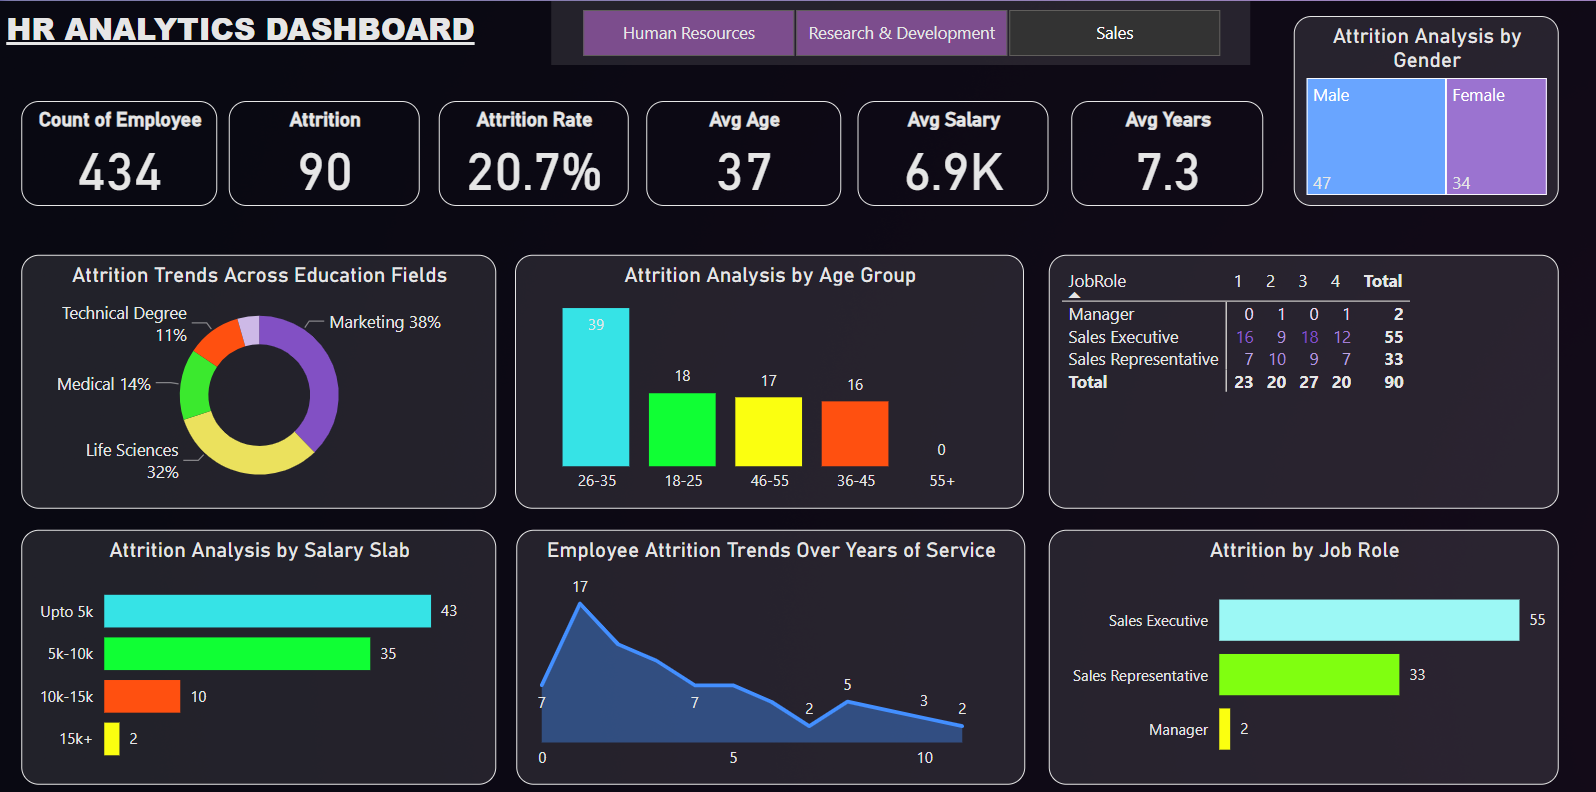

This screenshot's page, from the dashboard's own definition file:
{"tool":"powerbi","page":{"name":"Page 1","canvas":[1280,720],"ordinal":0},"visuals":[{"type":"card","title":"Count of Employee","fields":{"Values":["CountNonNull(HR_Analytics.EmpID)"]},"box":[16.9,79.6,156.8,84.4],"z":0},{"type":"card","title":"Attrition","fields":{"Values":["Sum(HR_Analytics.AttritionCount)"]},"box":[183.3,79.6,153.2,84.4],"z":1000},{"type":"card","title":"Attrition Rate","fields":{"Values":["HR_Analytics.AttritionRate"]},"box":[351,79.6,152,84.4],"z":2000},{"type":"card","title":"Avg Age","fields":{"Values":["Avg(HR_Analytics.Age)"]},"box":[517.4,79.6,155.6,84.4],"z":3000},{"type":"card","title":"Avg Salary","fields":{"Values":["Avg(HR_Analytics.MonthlyIncome)"]},"box":[686.2,79.6,153.2,84.4],"z":4000},{"type":"card","title":"Avg Years","fields":{"Values":["Avg(HR_Analytics.YearsAtCompany)"]},"box":[857.5,79.6,153.2,84.4],"z":5000},{"type":"donutChart","title":"Attrition Trends Across Education Fields","fields":{"Category":["HR_Analytics.EducationField"],"Y":["Sum(HR_Analytics.AttritionCount)"]},"box":[16.9,202.6,380,203.8],"z":6000},{"type":"columnChart","title":"Attrition Analysis by Age Group","fields":{"Category":["HR_Analytics.AgeGroup"],"Y":["Sum(HR_Analytics.AttritionCount)"]},"box":[412.5,202.6,406.4,203.8],"z":7000},{"type":"pivotTable","fields":{"Rows":["HR_Analytics.JobRole"],"Columns":["HR_Analytics.JobSatisfaction"],"Values":["Sum(HR_Analytics.AttritionCount)"]},"box":[839.4,202.6,407.6,203.8],"z":8000},{"type":"barChart","title":"Attrition Analysis by Salary Slab","fields":{"Category":["HR_Analytics.SalarySlab"],"Y":["Sum(HR_Analytics.AttritionCount)"]},"box":[17,423,380,204],"z":9000},{"type":"barChart","title":"Attrition by Job Role","fields":{"Category":["HR_Analytics.JobRole"],"Y":["Sum(HR_Analytics.AttritionCount)"]},"box":[839,423,408,204],"z":10000},{"type":"areaChart","title":"Employee Attrition Trends Over Years of Service","fields":{"Category":["HR_Analytics.YearsAtCompany"],"Y":["Sum(HR_Analytics.AttritionCount)"]},"box":[413,423,407,204],"z":11000},{"type":"treemap","title":"Attrition Analysis by Gender","fields":{"Group":["HR_Analytics.Gender"],"Values":["Sum(HR_Analytics.AttritionCount)"]},"box":[1034.8,12.1,212.3,152],"z":12000},{"type":"slicer","fields":{"Values":["HR_Analytics.Department"]},"box":[441.4,0,558.4,50.7],"z":13000},{"type":"textbox","box":[0,0,492.1,51.9],"z":14000}]}

Visuals, with their boxes on the page's 1280x720 design canvas (x1, y1, x2, y2). These are canvas units, not pixel positions in the 1596x792 screenshot, which may show the page scaled, cropped or inside an application window:
"Count of Employee" card: (17, 80, 174, 164)
"Attrition" card: (183, 80, 336, 164)
"Attrition Rate" card: (351, 80, 503, 164)
"Avg Age" card: (517, 80, 673, 164)
"Avg Salary" card: (686, 80, 839, 164)
"Avg Years" card: (858, 80, 1011, 164)
"Attrition Trends Across Education Fields" donutChart: (17, 203, 397, 406)
"Attrition Analysis by Age Group" columnChart: (412, 203, 819, 406)
pivotTable - HR_Analytics.JobRole x HR_Analytics.JobSatisfaction: (839, 203, 1247, 406)
"Attrition Analysis by Salary Slab" barChart: (17, 423, 397, 627)
"Attrition by Job Role" barChart: (839, 423, 1247, 627)
"Employee Attrition Trends Over Years of Service" areaChart: (413, 423, 820, 627)
"Attrition Analysis by Gender" treemap: (1035, 12, 1247, 164)
slicer - HR_Analytics.Department: (441, 0, 1000, 51)
textbox: (0, 0, 492, 52)
